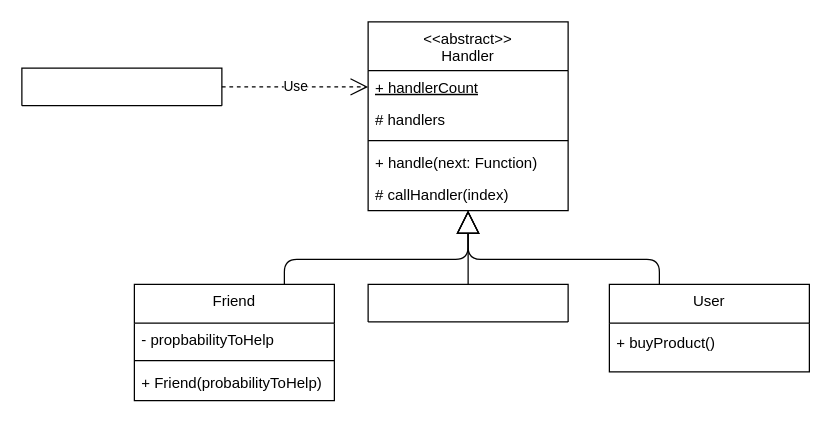
The diagram is 831 pixels wide and 424 high, and some of its shapes have lost their labels. The shapes that lost their labels are listed below. From the top down, each one's centre as x and y in pixels, then its label:
(x=121, y=86): Client
(x=467, y=302): Credit
